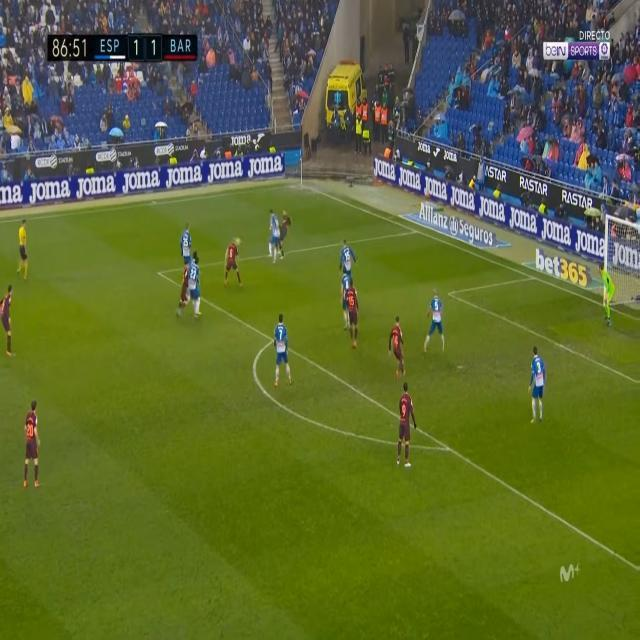ball: (236, 236, 242, 248)
goalkeeper: (594, 262, 618, 328)
player: (16, 396, 46, 494), (391, 380, 420, 473), (525, 344, 554, 431), (270, 311, 297, 393), (422, 287, 450, 357), (387, 312, 412, 382), (1, 281, 19, 362), (180, 259, 202, 323), (341, 276, 361, 345), (223, 236, 244, 291), (339, 236, 359, 291), (267, 208, 284, 263), (179, 222, 196, 273)
referee: (13, 216, 33, 287)
